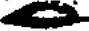Mouth: (1, 2, 81, 29)
